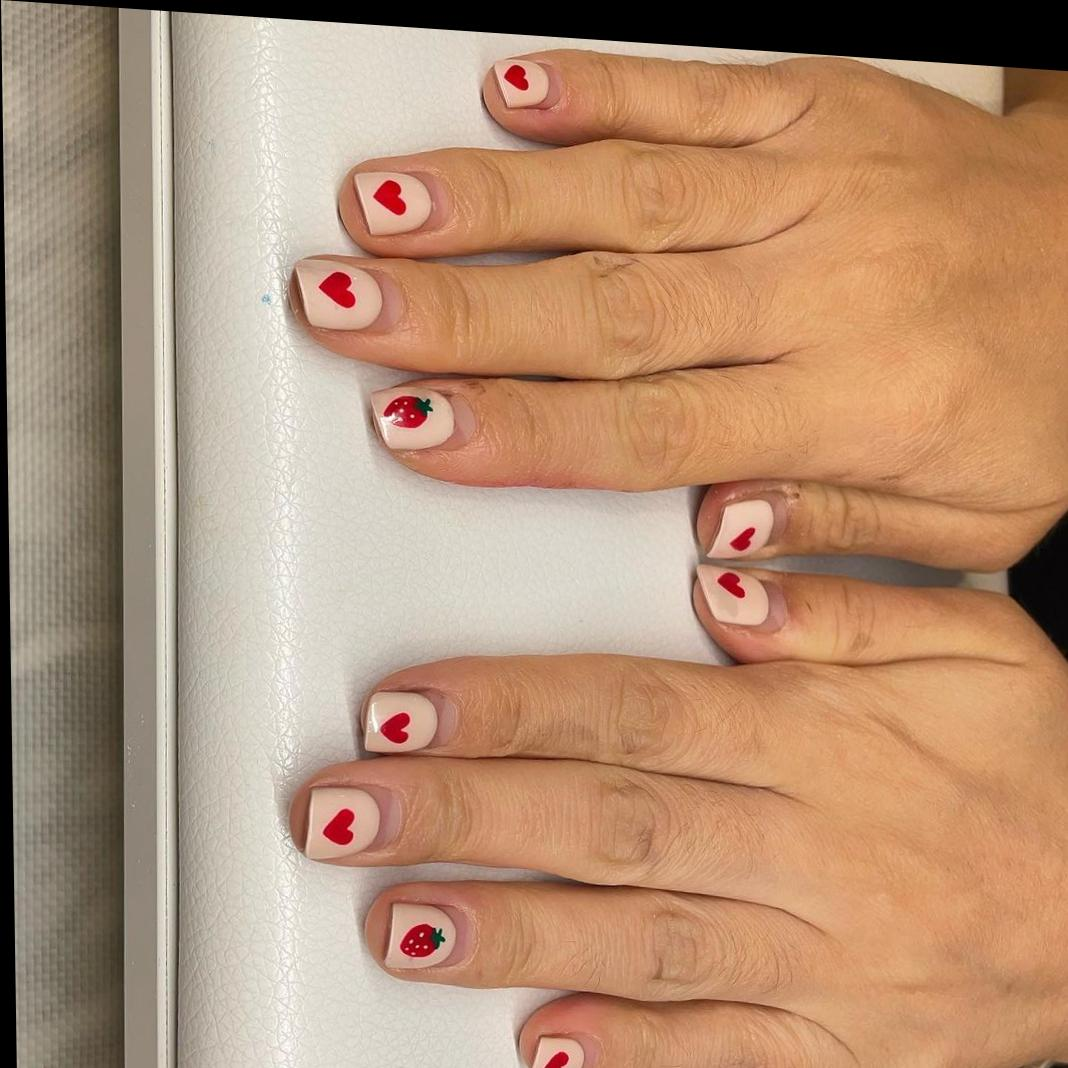nail: (292, 254, 385, 333), (692, 563, 789, 636), (301, 781, 384, 865), (381, 898, 467, 973), (351, 166, 435, 240), (371, 383, 456, 454), (359, 685, 440, 758), (708, 491, 787, 558), (492, 55, 561, 111), (527, 1028, 596, 1068)
